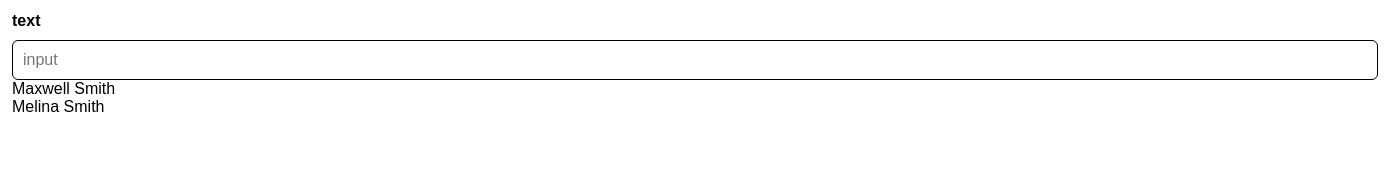
it: Autocomplete › should filter the options while the user types
The width and height of the screenshot is (1390, 172).
Check: the text "text" is shown, box [12,12,40,29]
Check: the number of options is 2, box [12,80,115,97]; [12,98,104,115]
Type "M" into the field with placeholder "input" at (695, 60), box [12,40,1378,80]
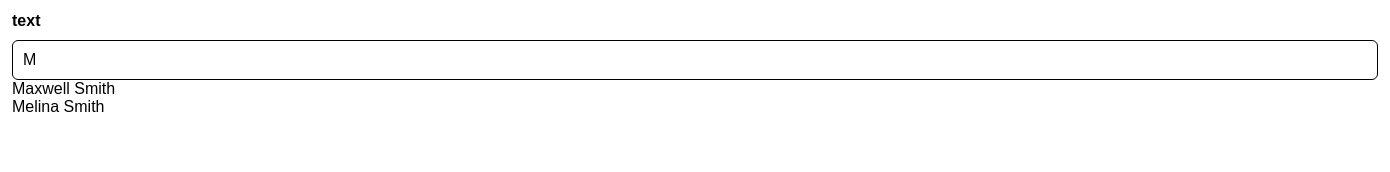
Check: the number of options is 2, box [12,80,115,97]; [12,98,104,115]
Type "e" into the field with placeholder "input" at (695, 60), box [12,40,1378,80]
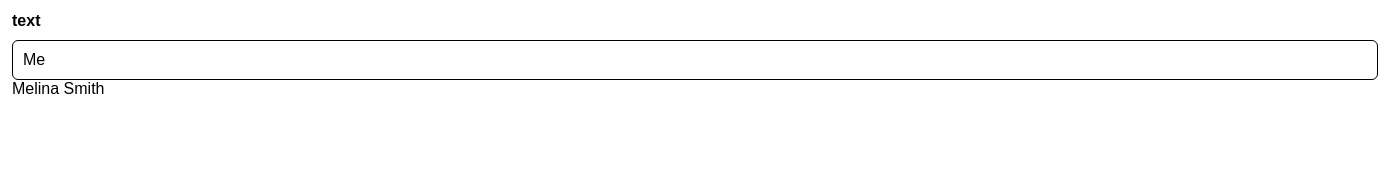
Check: the number of options is 1, box [12,80,104,97]
